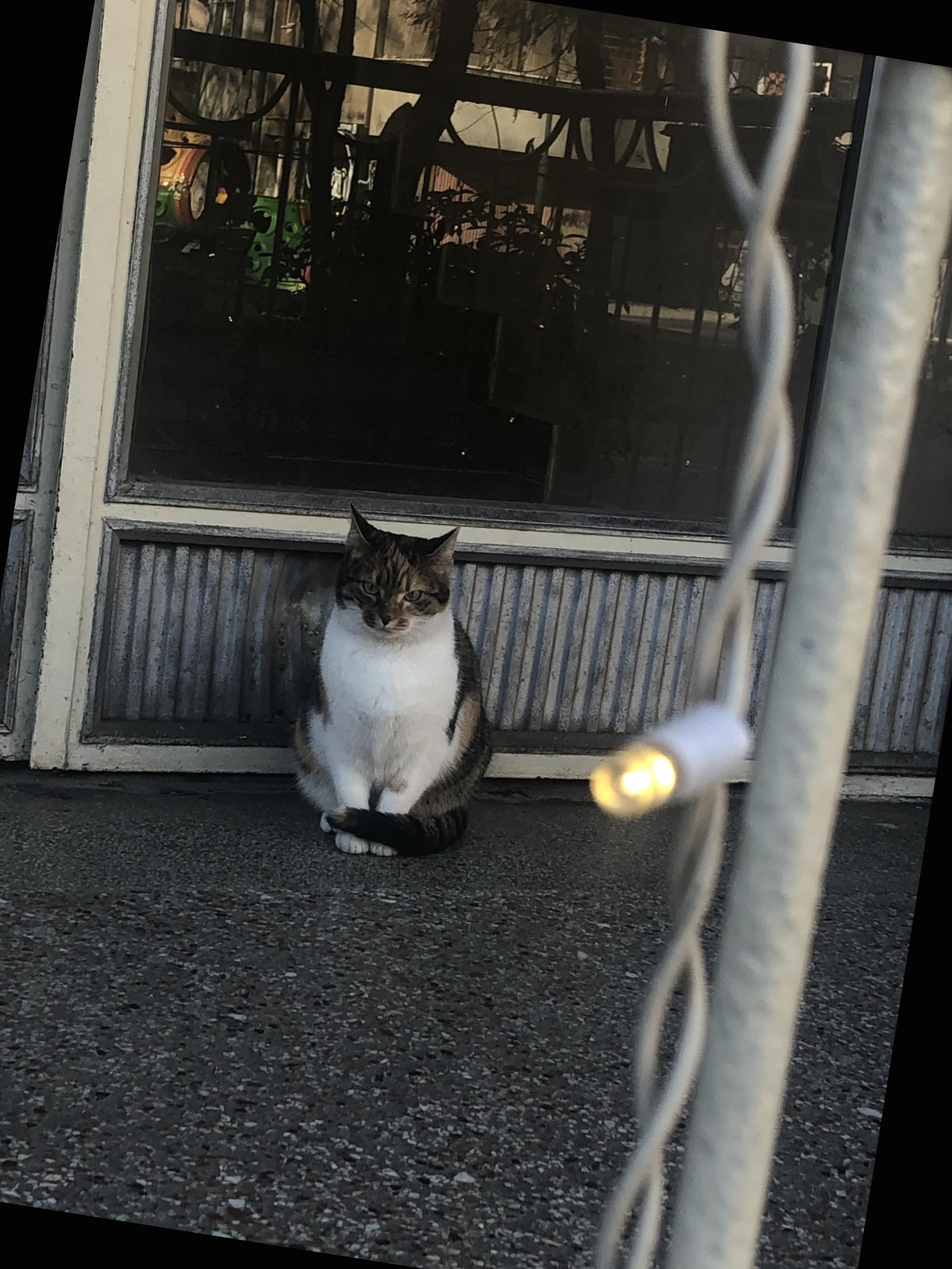macka: (270, 496, 536, 876)
